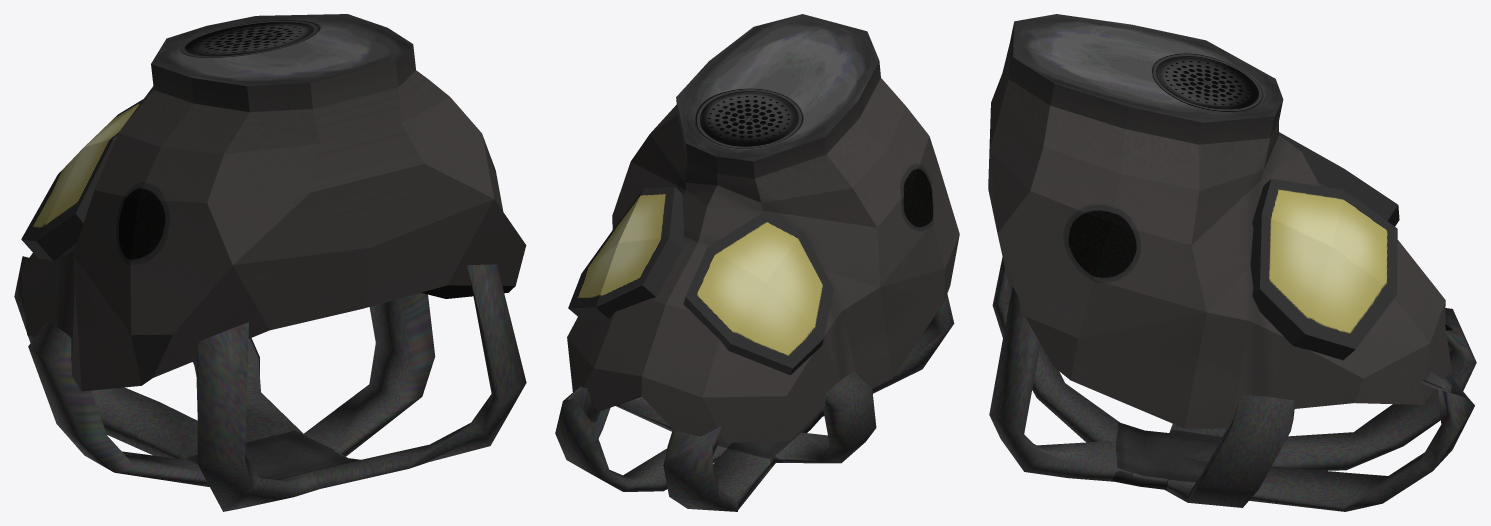
Rendered from M_M17_NotWorn.fbx.
3 renders of one model, left to right at view 1: azimuth 30°, elevation 25°; view 2: azimuth 150°, elevation 25°; view 3: azimuth 270°, elevation 25°, orthographic. The views are drawn at different scales.
Visible parts, largest first — view 1: Cube.005; view 2: Cube.005; view 3: Cube.005.
Boxes of the visible parts, x1=… form: Cube.005: x1=14, y1=14, x2=526, y2=511; Cube.005: x1=555, y1=14, x2=959, y2=511; Cube.005: x1=988, y1=14, x2=1476, y2=511.
Bounding box in the file's own units: 0.1056 × 0.1296 × 0.1322.
